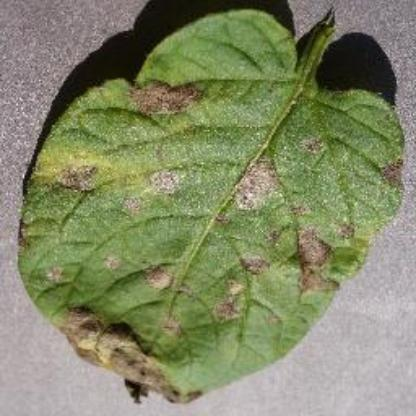Early-Blight: (17, 7, 407, 406)
